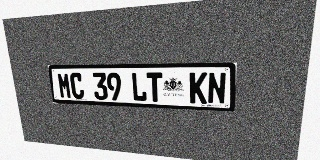3: (92, 72, 108, 100)
9: (106, 72, 122, 101)
C: (69, 72, 85, 99)
K: (190, 72, 207, 104)
L: (131, 72, 147, 101)
M: (57, 73, 72, 99)
N: (207, 72, 226, 104)
T: (146, 72, 163, 102)
